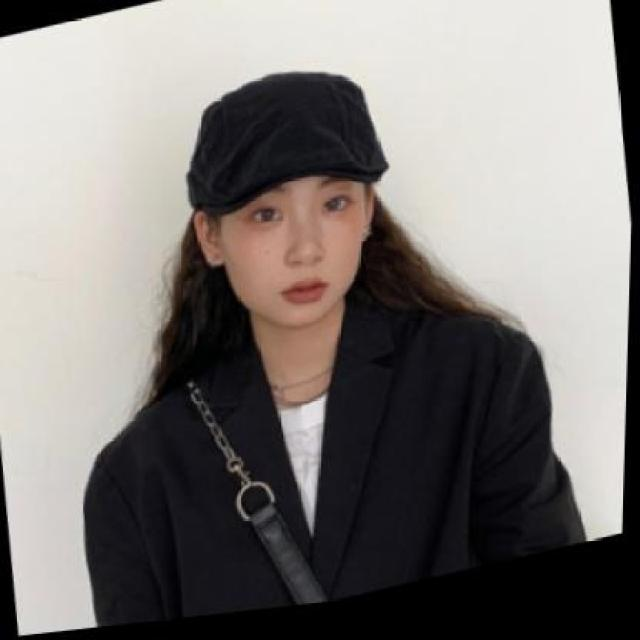hat: (177, 56, 392, 232)
